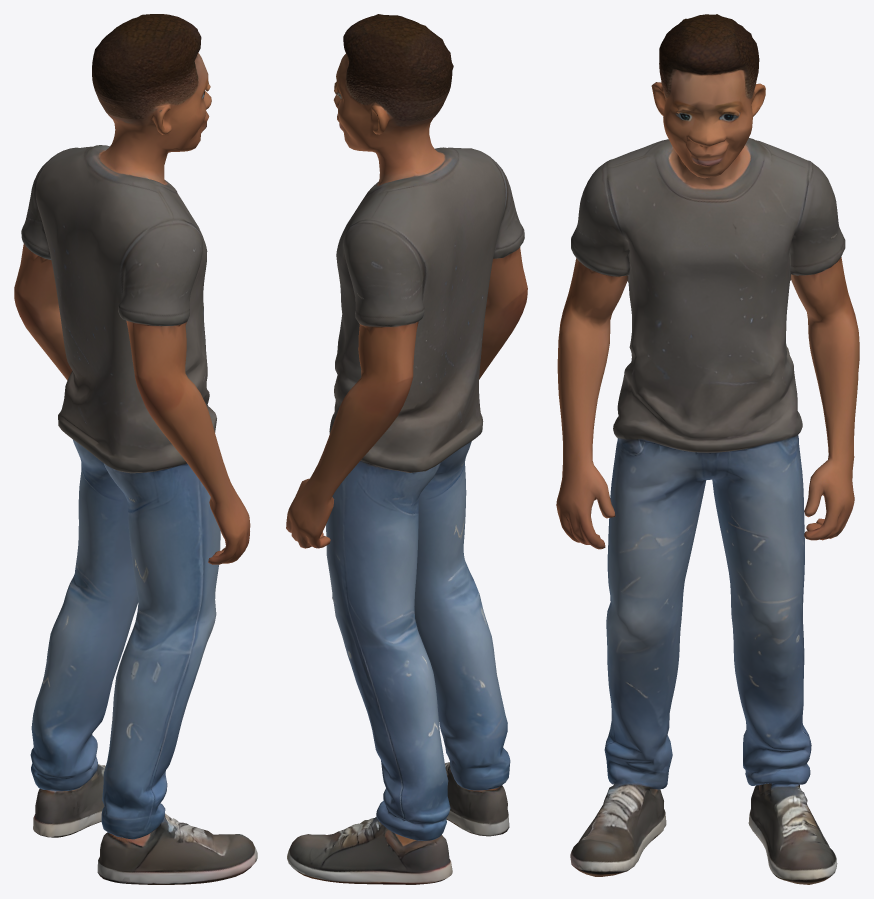
The model's file is walker.glb.
3 views of the same model, side by side, from view 1: azimuth 30°, elevation 25°; view 2: azimuth 150°, elevation 25°; view 3: azimuth 270°, elevation 25° (orthographic). The views are drawn at different scales.
Visible parts, largest first — view 1: tripo_node_fed6d17f-5d75-4079-a53a-12c799fcbb81; view 2: tripo_node_fed6d17f-5d75-4079-a53a-12c799fcbb81; view 3: tripo_node_fed6d17f-5d75-4079-a53a-12c799fcbb81.
Boxes of the visible parts, <box> form: tripo_node_fed6d17f-5d75-4079-a53a-12c799fcbb81: <box>14,14,257,884</box>; tripo_node_fed6d17f-5d75-4079-a53a-12c799fcbb81: <box>286,14,527,884</box>; tripo_node_fed6d17f-5d75-4079-a53a-12c799fcbb81: <box>556,14,859,884</box>.
Size of the model in its own units: 0.3318 by 1.8 by 0.5865.
1 material, 1 textured.
